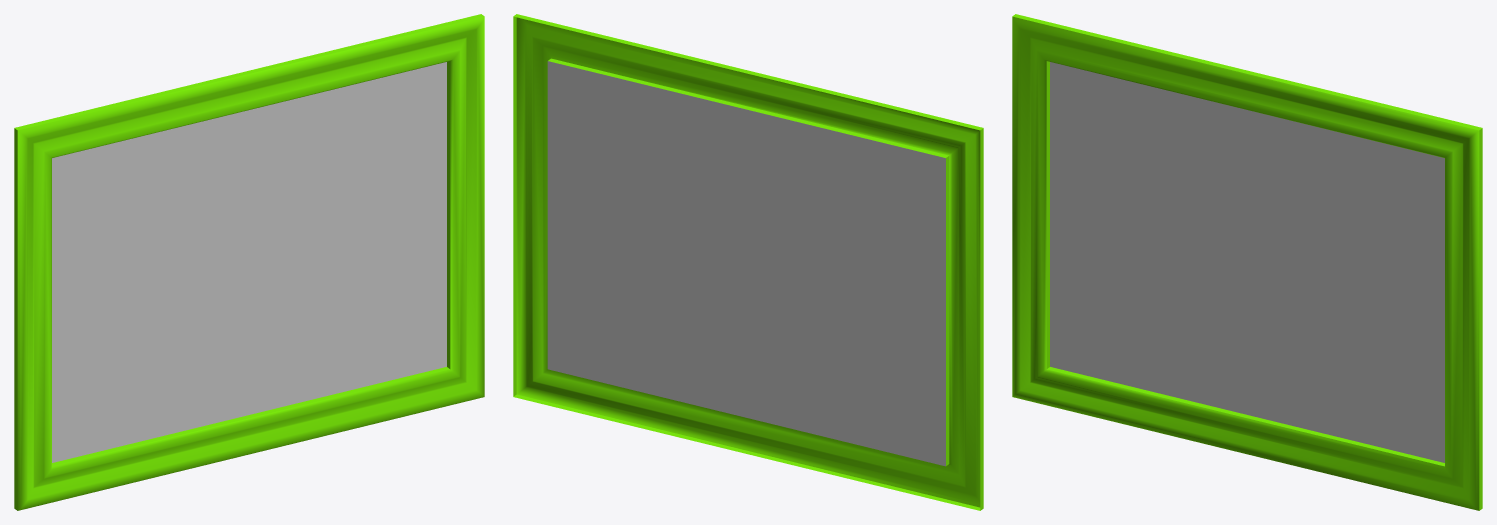
Rendered from painting_13_mesh.fbx.
3 views of the same model, side by side, from view 1: azimuth 30°, elevation 25°; view 2: azimuth 150°, elevation 25°; view 3: azimuth 330°, elevation 25° (orthographic).
Parts seen in each view (by area): view 1: painting; view 2: painting; view 3: painting.
Boxes of the visible parts, x1,y1,x2,y2 form: painting: (14, 14, 484, 510); painting: (513, 14, 983, 510); painting: (1012, 14, 1482, 510).
Bounding box in the file's own units: 1.17 × 0.9128 × 0.02.
